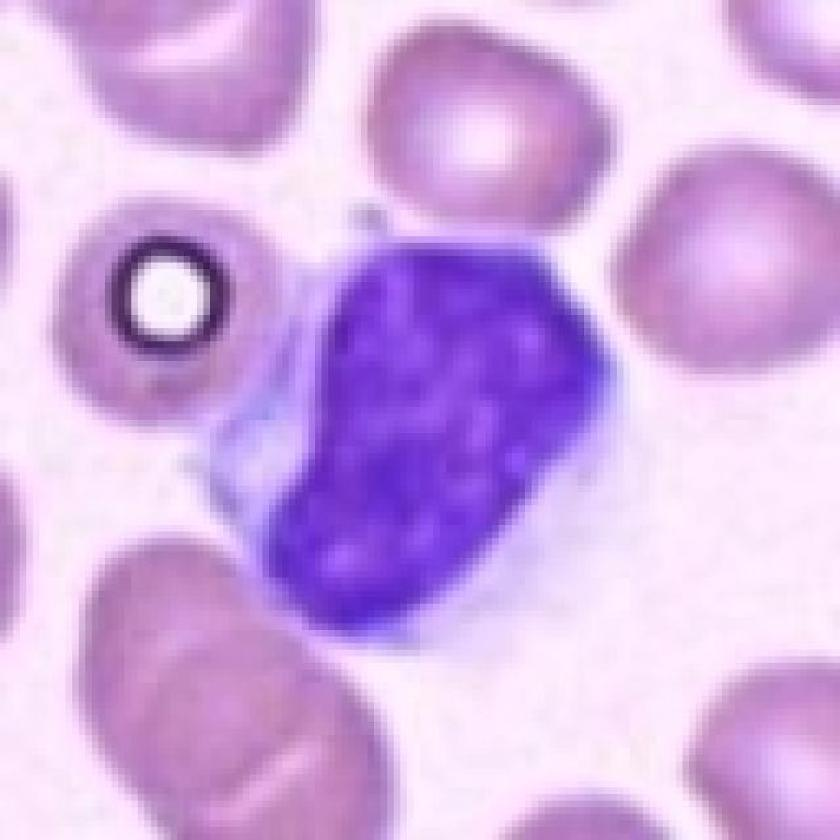lymphocyte: (182, 228, 636, 659)
